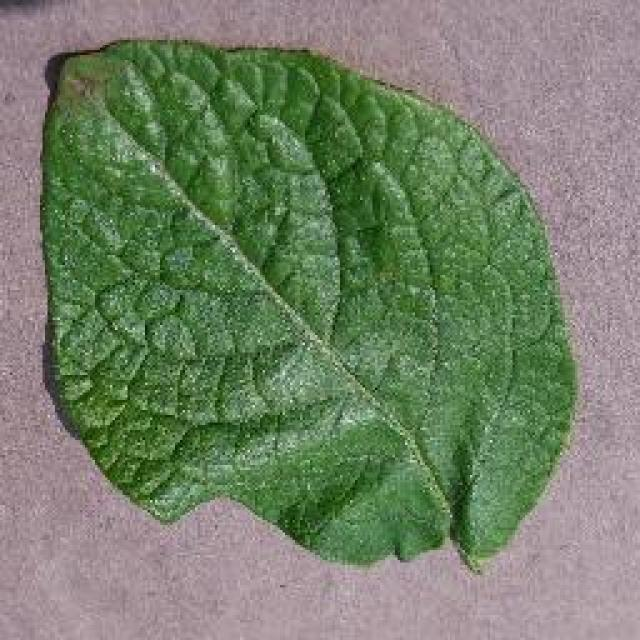Potato___healthy: (36, 34, 583, 583)
